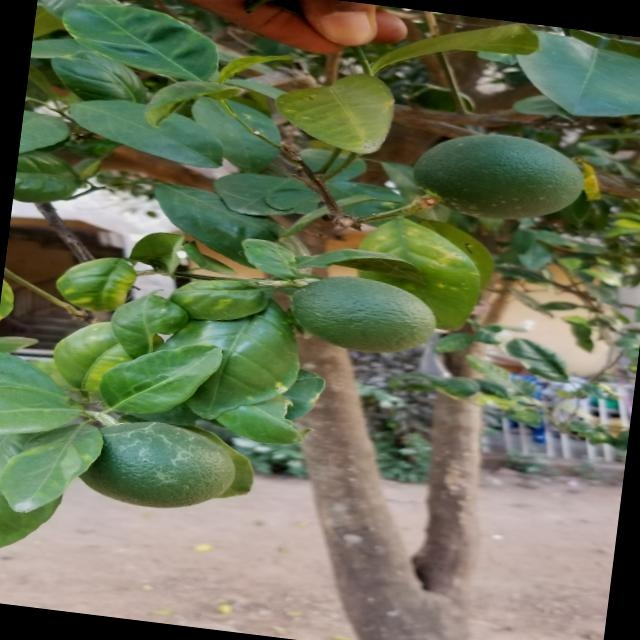agrume: (391, 120, 594, 244), (64, 404, 241, 524), (270, 258, 450, 370)
